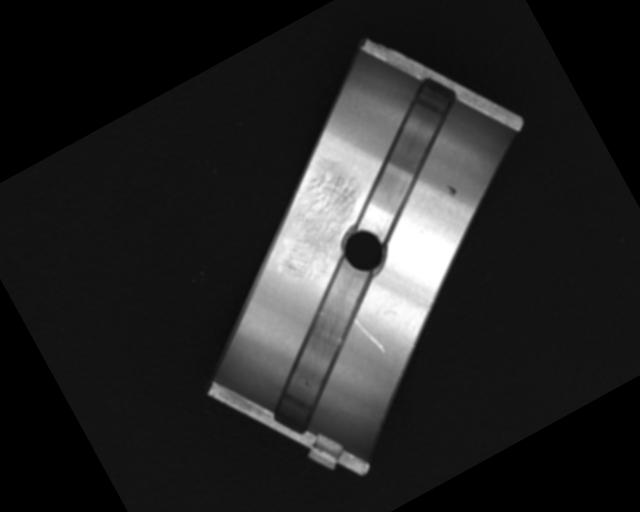bruise: (444, 181, 459, 198)
gap: (228, 255, 421, 433), (316, 73, 499, 243)
hole: (334, 220, 394, 281)
nick: (353, 313, 385, 358)
scratch: (249, 162, 385, 292)
